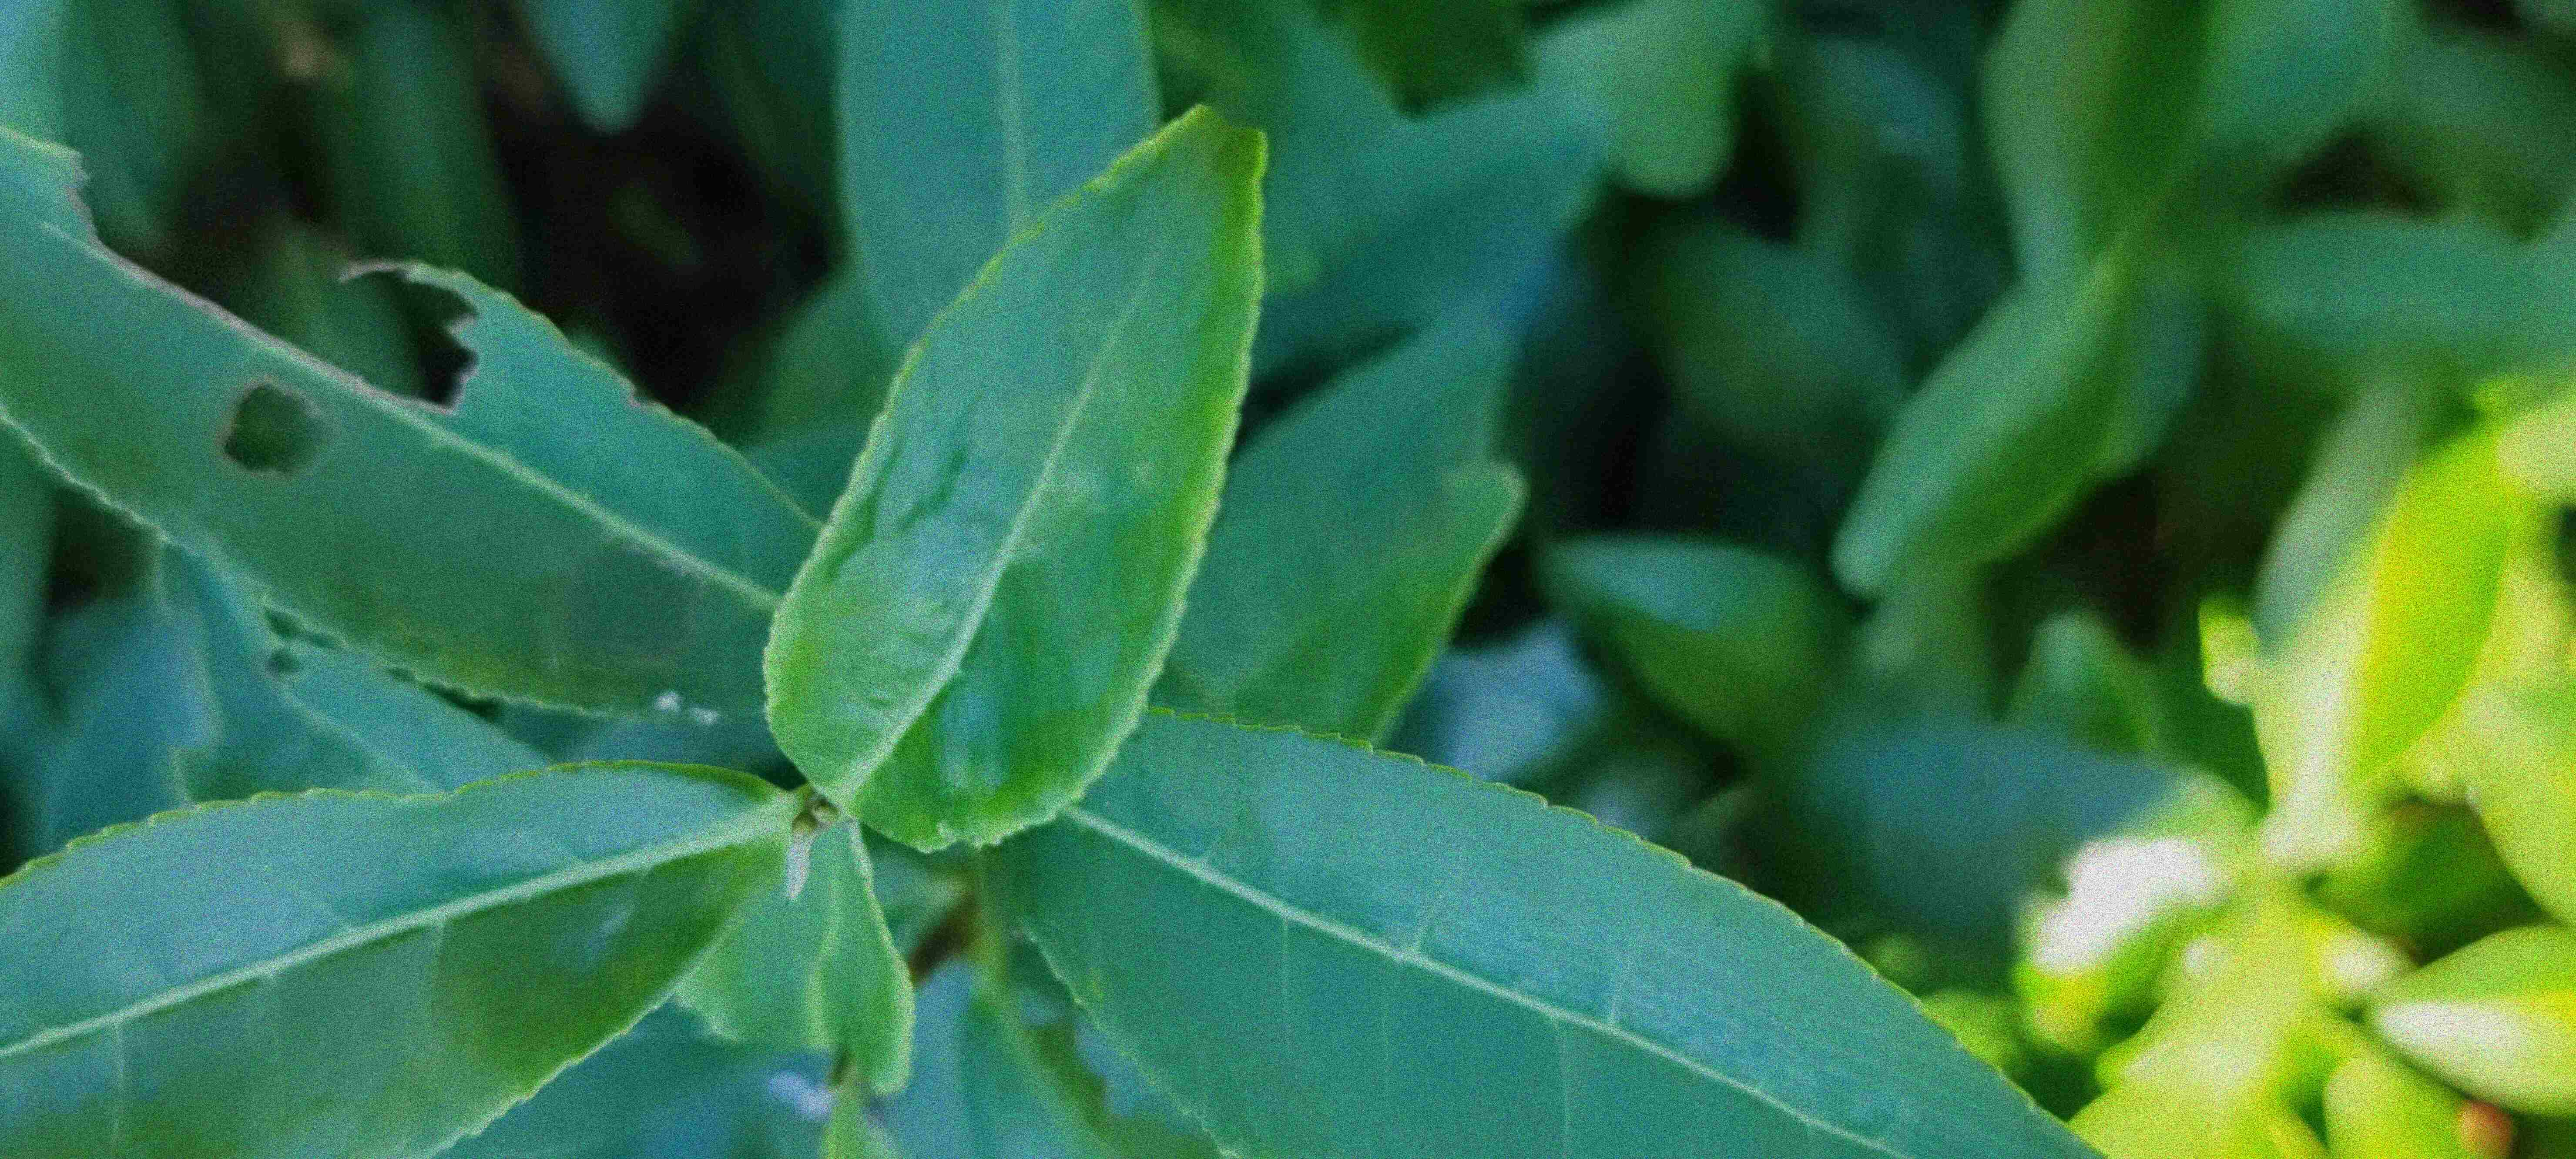chihuo_high: (7, 128, 831, 731), (151, 534, 555, 826)
healthy: (997, 703, 2103, 1156), (764, 98, 1272, 850), (5, 762, 790, 1156)
